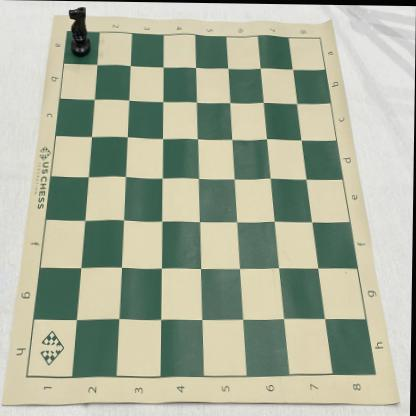black-knight: (68, 6, 92, 57)
